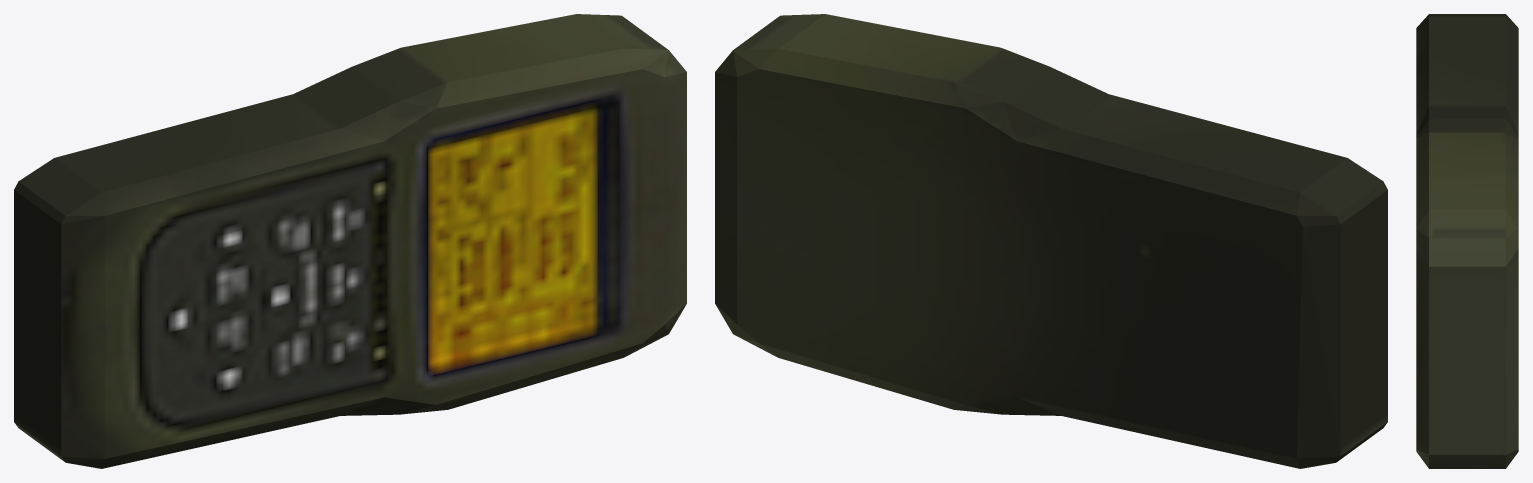
The model's file is GPS_DAGR.fbx.
The picture shows the model from 3 angles, left to right: view 1: azimuth 30°, elevation 25°; view 2: azimuth 150°, elevation 25°; view 3: azimuth 270°, elevation 25°; orthographic projection. The views are drawn at different scales.
Parts seen in each view (by area): view 1: untitled; view 2: untitled; view 3: untitled.
Boxes of the visible parts, box(x1,y1,x2,y2) form: untitled: box(14, 14, 686, 468); untitled: box(715, 14, 1387, 468); untitled: box(1416, 14, 1518, 468).
Size of the model in its own units: 18.83 by 9.42 by 3.28.
Materials: 1 (1 with a texture image).
